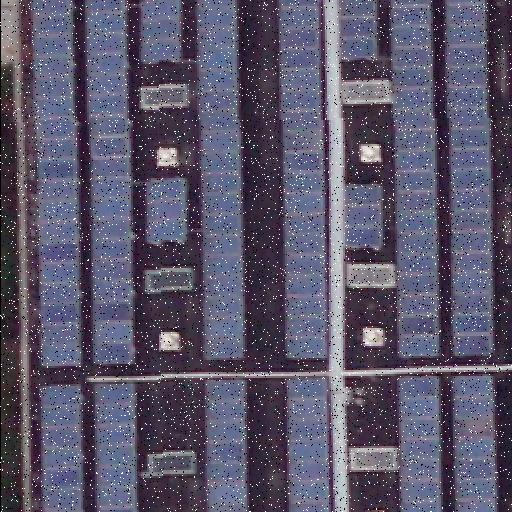solar-panel: (30, 0, 82, 368), (388, 1, 440, 359), (83, 0, 133, 368), (195, 0, 245, 364), (275, 0, 325, 360), (444, 1, 492, 359), (394, 376, 442, 512), (285, 376, 331, 512), (449, 376, 495, 512), (93, 380, 139, 512), (204, 377, 248, 511), (38, 384, 82, 512), (138, 1, 182, 63), (143, 178, 185, 242), (342, 182, 382, 246), (336, 0, 376, 56)
